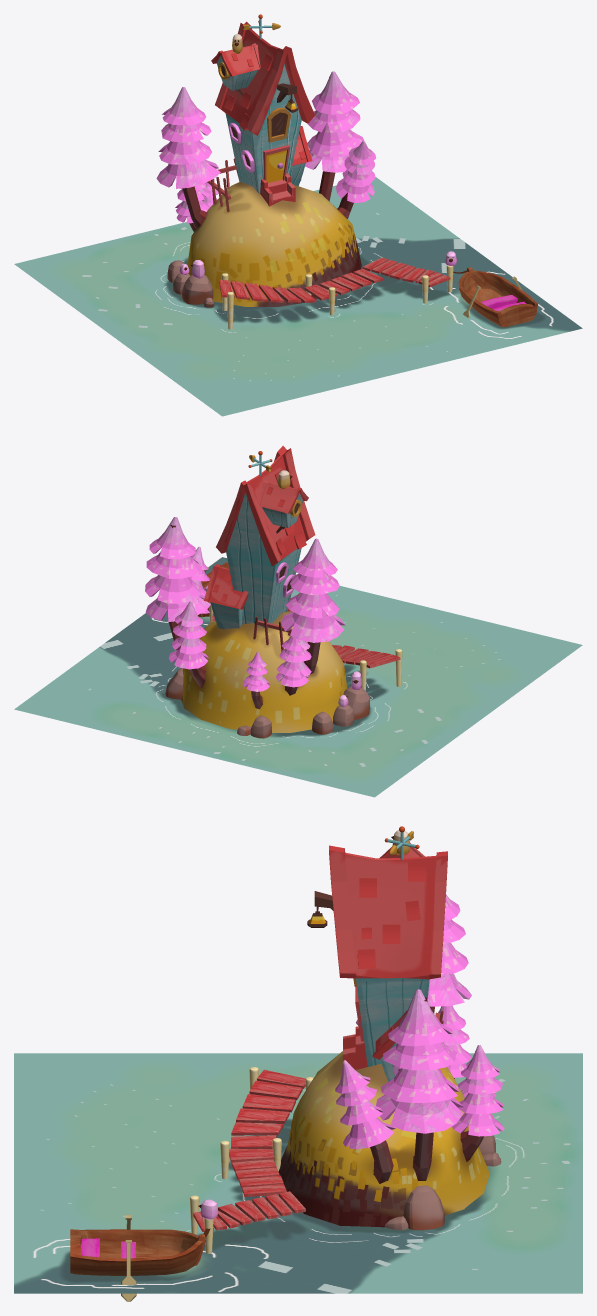
File: SM_Gonzalez_Luis_Diorama.fbx
The picture shows the model from 3 angles, top to bottom: view 1: azimuth 30°, elevation 25°; view 2: azimuth 150°, elevation 25°; view 3: azimuth 270°, elevation 25°; orthographic projection. The views are drawn at different scales.
Visible parts, largest first — view 1: sea, islandrock, hause_base, boat, hauseroofhause3, leaves1, leaves38, leaves36, leaves17, leaves26, leaves37, door (+8 smaller); view 2: sea, islandrock, hause_base, hausenexttohause1, leaves1, hauseroofhause3, leaves38, leaves36, leaves17, leaves37, leaves26, leaves20 (+4 smaller); view 3: sea, islandrock, hause_base, boat, leaves20, leaves38, leaves36, leaves37, rock7, leaves1, leaves24, leaves16 (+14 smaller).
Boxes of the visible parts, x1,y1,x2,y2 form: sea: [14, 177, 582, 416]; islandrock: [187, 181, 361, 306]; hause_base: [215, 21, 315, 193]; boat: [458, 267, 537, 327]; hauseroofhause3: [211, 43, 260, 90]; leaves1: [156, 159, 220, 188]; leaves38: [307, 122, 364, 157]; leaves36: [312, 71, 359, 114]; leaves17: [158, 140, 211, 164]; leaves26: [162, 87, 206, 125]; leaves37: [308, 109, 360, 132]; door: [263, 145, 289, 182]; sea: [14, 557, 582, 797]; islandrock: [181, 611, 347, 732]; hause_base: [216, 446, 315, 627]; hausenexttohause1: [204, 564, 248, 629]; leaves1: [281, 608, 345, 642]; hauseroofhause3: [259, 480, 308, 527]; leaves38: [145, 575, 201, 603]; leaves36: [149, 517, 195, 559]; leaves17: [285, 592, 339, 618]; leaves37: [146, 551, 201, 578]; leaves26: [293, 538, 337, 577]; leaves20: [145, 595, 210, 621]; sea: [14, 1053, 582, 1293]; islandrock: [278, 1051, 489, 1227]; hause_base: [329, 845, 447, 1066]; boat: [70, 1229, 205, 1275]; leaves20: [376, 1095, 463, 1133]; leaves38: [380, 1068, 458, 1103]; leaves36: [388, 989, 452, 1046]; leaves37: [383, 1042, 457, 1070]; rock7: [403, 1185, 444, 1230]; leaves1: [427, 973, 471, 1006]; leaves24: [343, 1118, 395, 1149]; leaves16: [452, 1113, 504, 1136].
Size of the model in its own units: 517 by 361 by 517.
